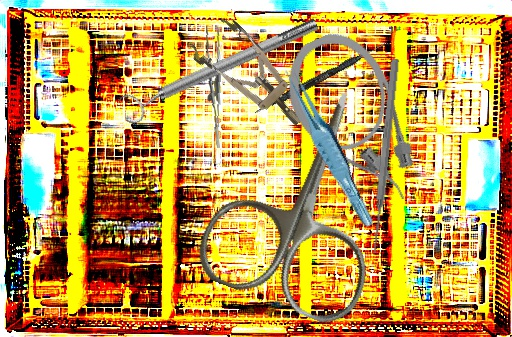Cannula: (270, 19, 435, 226)
Fixation Ring: (117, 9, 324, 127)
Iris Scissors: (188, 64, 427, 332)
Pusher: (368, 58, 401, 256)
Spatula Surgical: (253, 36, 391, 119)
Speculum: (185, 11, 319, 144)
Tissue Forceps: (281, 58, 376, 234), (195, 26, 231, 148)
